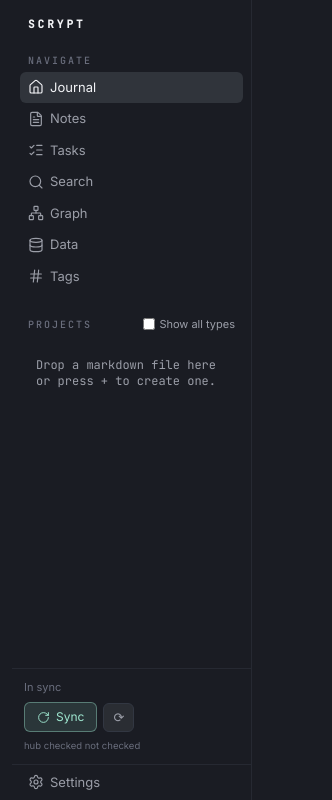
Sidebar (Wave 1 rewrite) › right-clicking the folder-tree area opens a ContextMenu
Right-click the element with test id "sidebar-tree": coordinates (126, 372) [36,356,216,388]
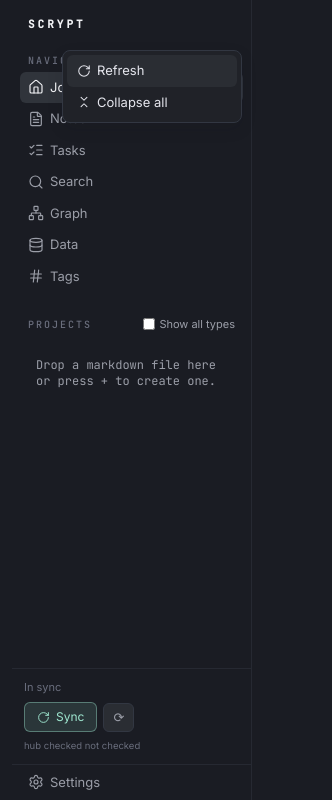
Check: the menu is shown, box [62,50,242,123]
Check: the menu shows "Refresh", box [67,55,237,86]
Check: the menu shows "Collapse all", box [67,86,237,118]
